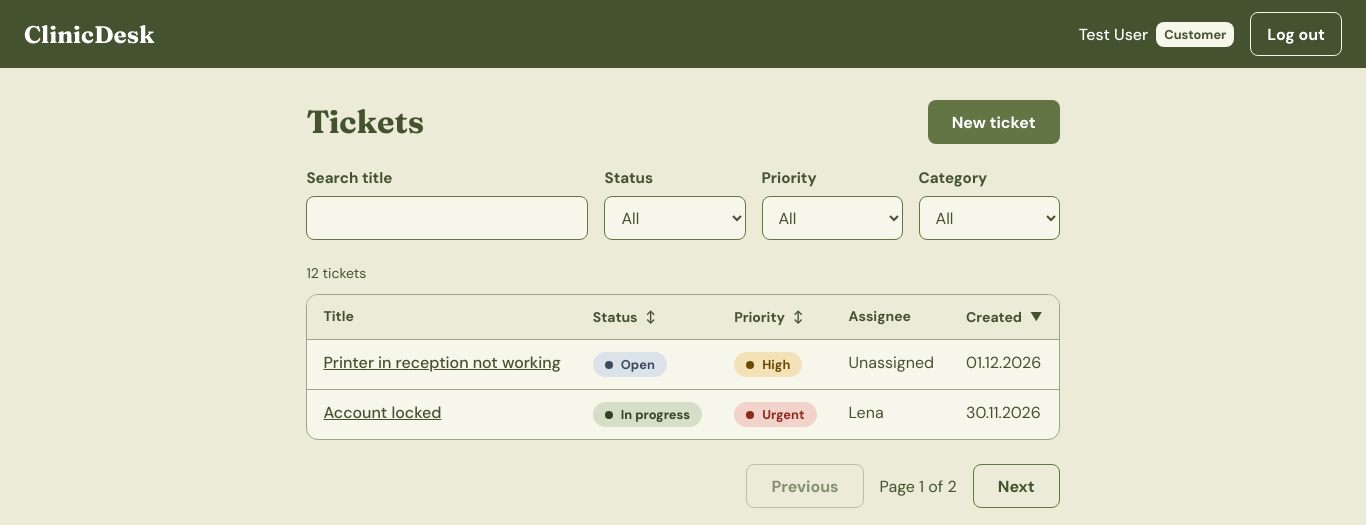
search › never shows a stale response after a newer one
The width and height of the screenshot is (1366, 525).
Expected: the table is shown, [307,295,1059,439]
Type "old" into the search field labelled "Search title".
click(447, 218); type("old")  # box [306,196,588,240]
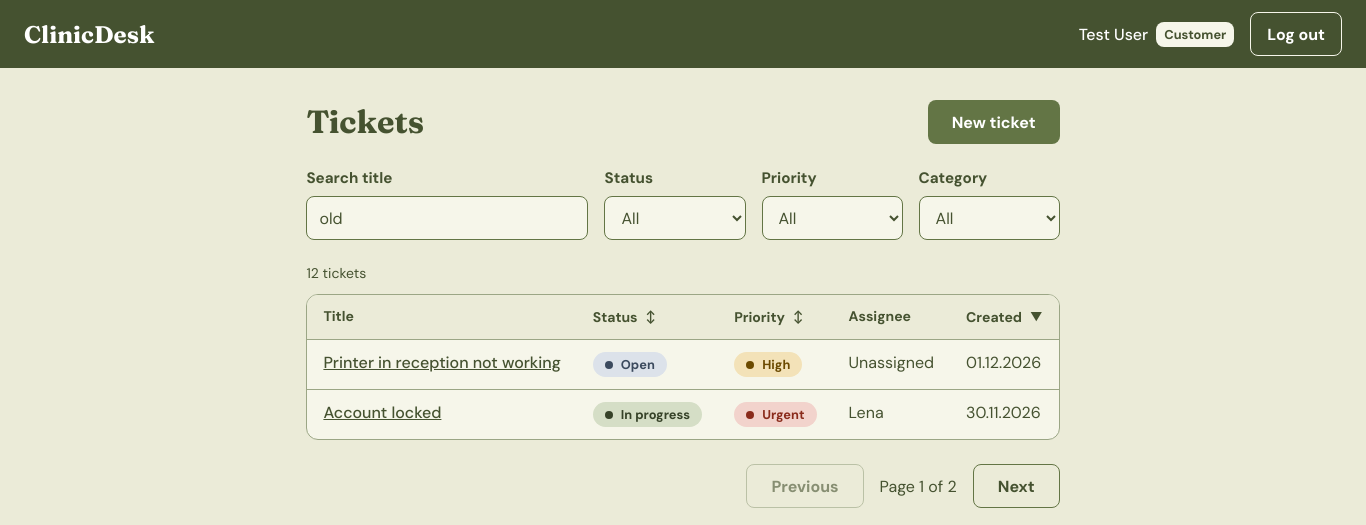
Press Enter in the search field labelled "Search title", box [306,196,588,240]
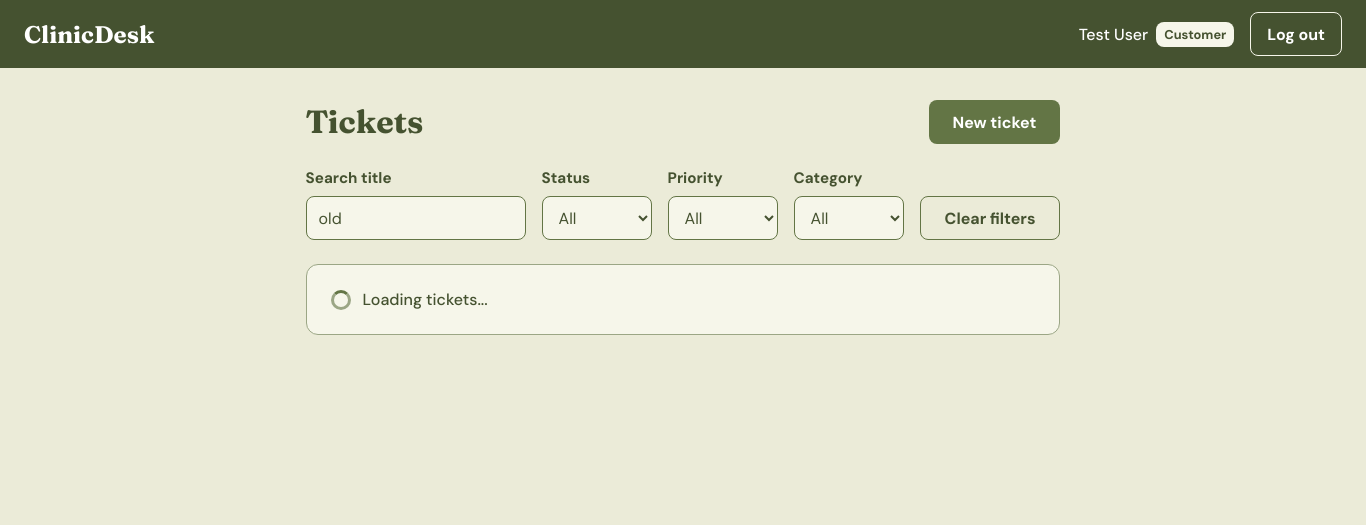
Replace the text in the search field labelled "Search title" with "new" at (416, 218), box [306,196,526,240]
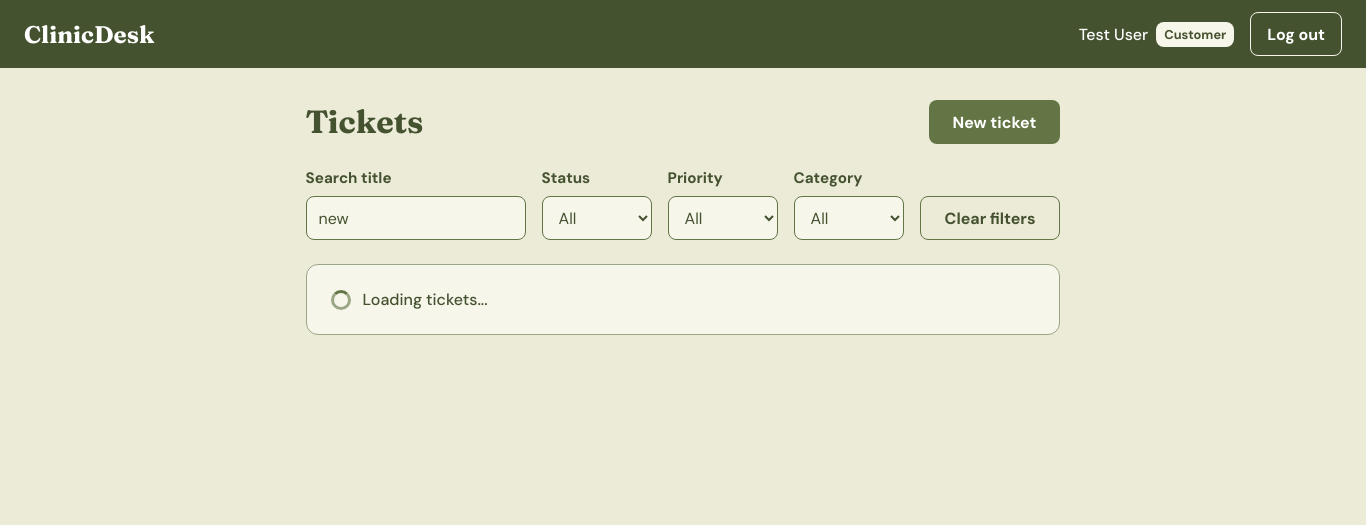
Press Enter in the search field labelled "Search title", box [306,196,526,240]
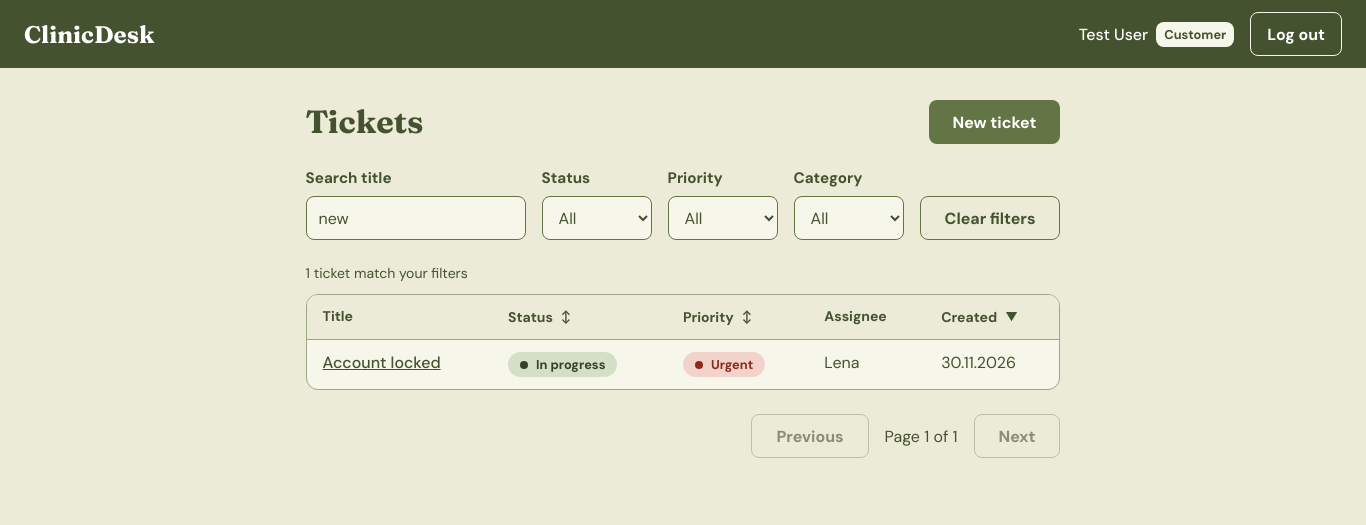
Expected: the link "Printer in reception not working" is not shown
Result: the link "Account locked" is shown at [323,352,441,373]
